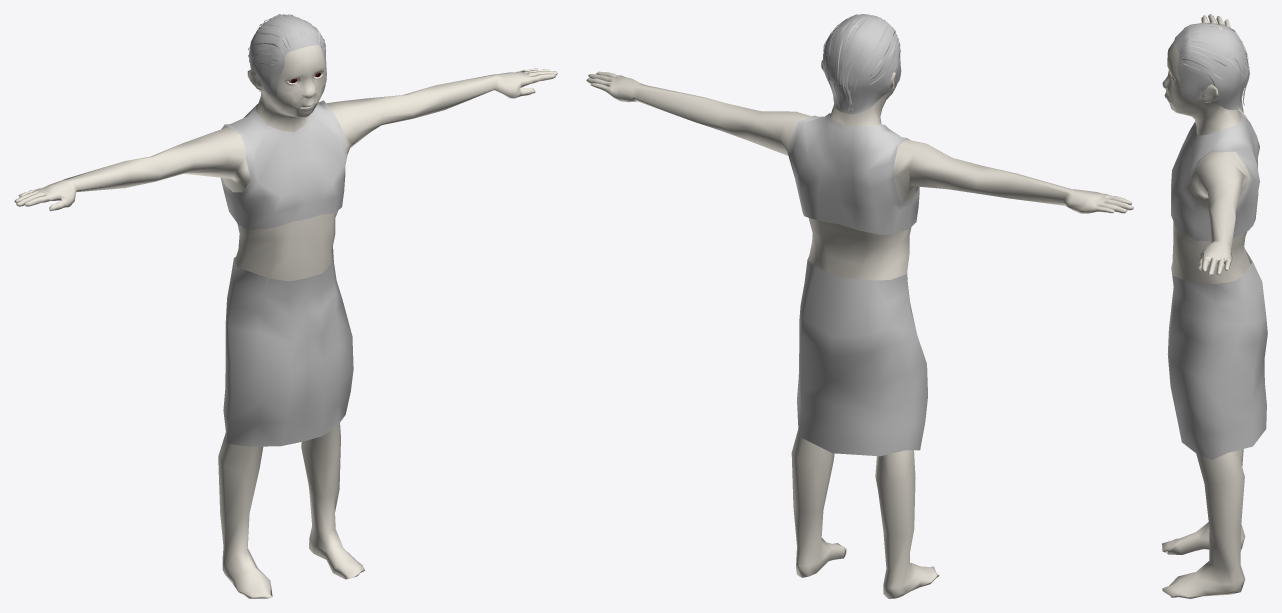
3 renders of one model, left to right at view 1: azimuth 30°, elevation 25°; view 2: azimuth 150°, elevation 25°; view 3: azimuth 270°, elevation 25°, orthographic. The views are drawn at different scales.
Visible parts, largest first — view 1: male1591Mesh, saia, short04Mesh; view 2: saia, male1591Mesh, short04Mesh; view 3: saia, male1591Mesh, short04Mesh.
Part boxes in pixels (x1=…): male1591Mesh: x1=14, y1=15, x2=557, y2=598; saia: x1=220, y1=100, x2=353, y2=446; short04Mesh: x1=248, y1=14, x2=326, y2=95; saia: x1=787, y1=113, x2=927, y2=456; male1591Mesh: x1=586, y1=24, x2=1133, y2=598; short04Mesh: x1=822, y1=14, x2=901, y2=114; saia: x1=1167, y1=109, x2=1267, y2=459; male1591Mesh: x1=1162, y1=14, x2=1250, y2=598; short04Mesh: x1=1174, y1=23, x2=1249, y2=109.
Size of the model in its own units: 437 by 428 by 75.01.
